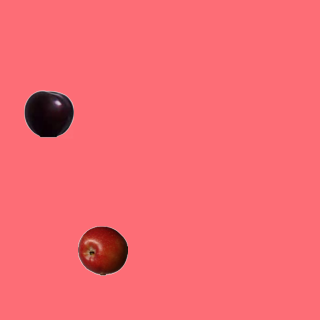Apple Braeburn: (77, 225, 127, 275)
Cherry Wax Black: (23, 88, 73, 138)
